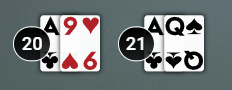9: (59, 14, 82, 39)
a: (38, 14, 62, 40), (142, 14, 165, 38)
q: (161, 14, 188, 38)
